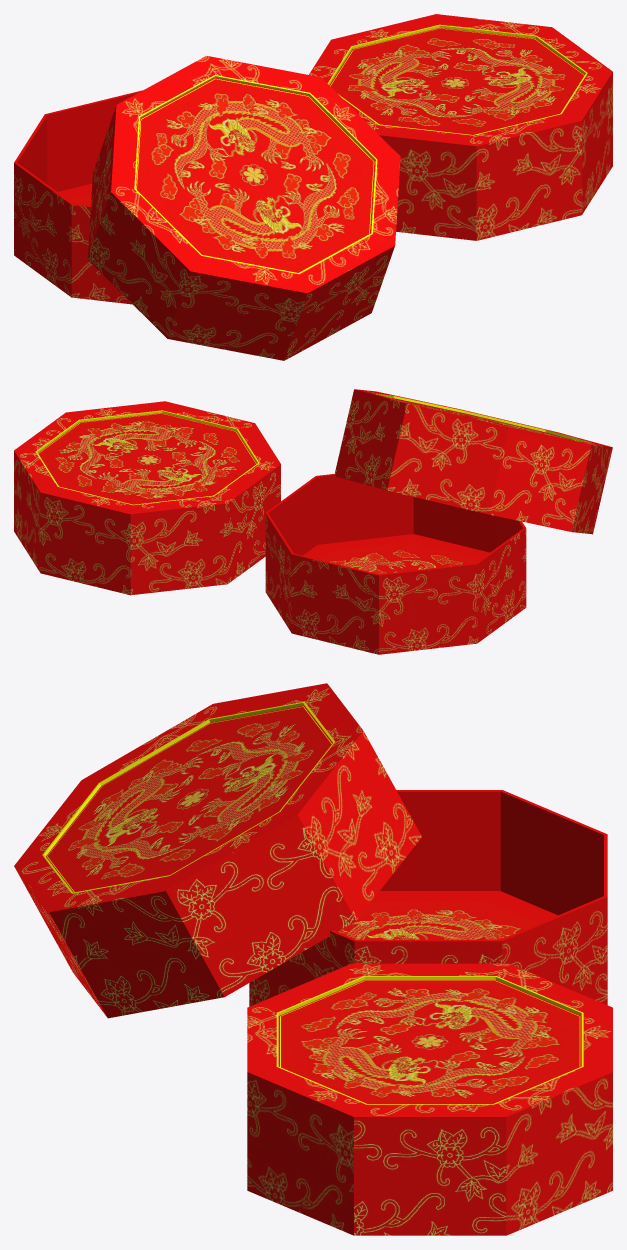
The model's file is Chinese_box.dae.
3 renders of one model, top to bottom at view 1: azimuth 30°, elevation 25°; view 2: azimuth 150°, elevation 25°; view 3: azimuth 270°, elevation 25°, orthographic. The views are drawn at different scales.
Visible parts, largest first — view 1: group_3 (×6), group_0 (×4), group_2 (×3); view 2: group_0 (×4), group_2 (×4), group_3 (×3); view 3: group_0 (×4), group_3 (×4), group_2 (×4).
Boxes of the visible parts, left/top/right/bottom form: group_3 (×6): left=87, top=55, right=400, bottom=360; group_0 (×4): left=309, top=14, right=612, bottom=240; group_2 (×3): left=14, top=90, right=142, bottom=304; group_0 (×4): left=14, top=401, right=280, bottom=595; group_2 (×4): left=265, top=474, right=526, bottom=654; group_3 (×3): left=334, top=389, right=612, bottom=534; group_0 (×4): left=247, top=963, right=612, bottom=1235; group_3 (×4): left=14, top=683, right=421, bottom=1018; group_2 (×4): left=249, top=790, right=607, bottom=1006.
Bounding box in the file's own units: 463 × 343 × 167.
